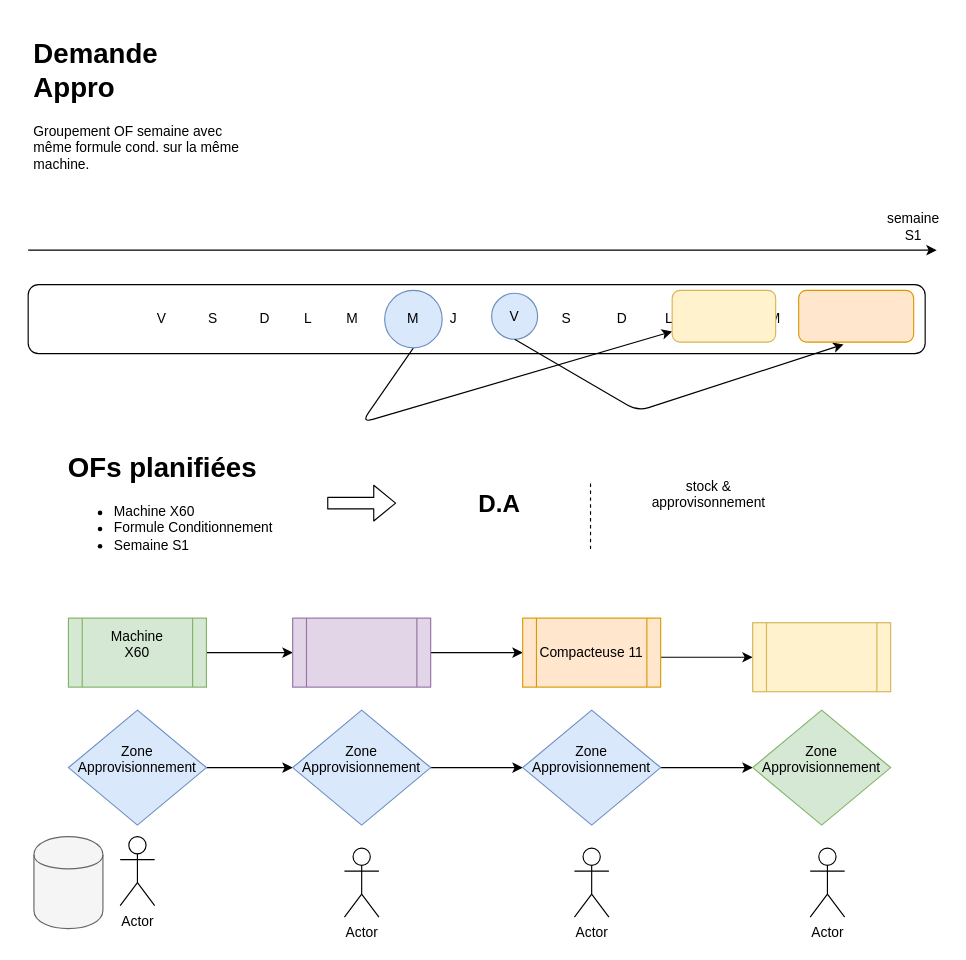
Some shapes in this 966 by 960 pixel diagram are drawn without their labels. The centre of each missing label's shape, as x and y in pixels:
Etiqueteuse E7: (x=821, y=657)
J V L: (x=856, y=315)
M M: (x=723, y=315)
Magasin: (x=68, y=882)
Remplisseuse F6: (x=361, y=652)
